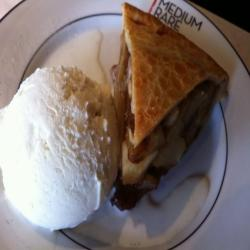apple_pie: (113, 4, 230, 226)
icecream: (1, 67, 121, 228)
